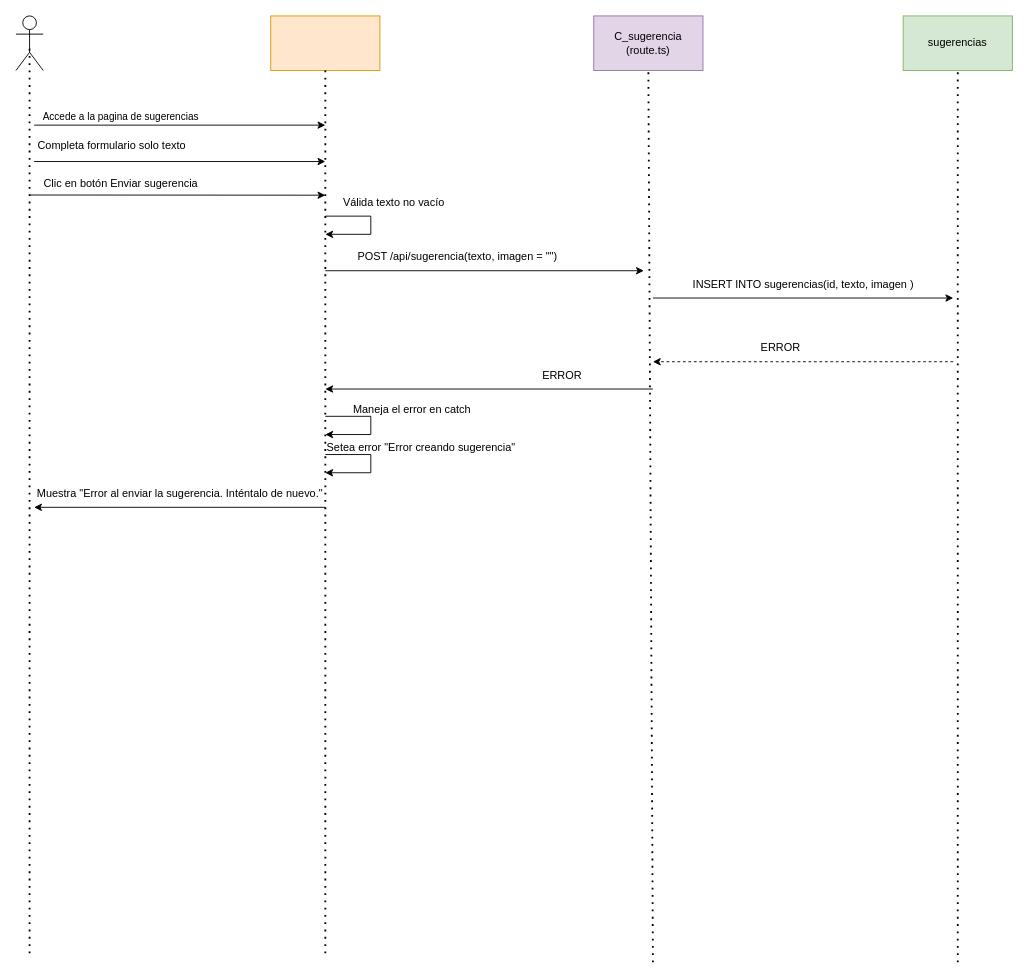
This 1028x980 diagram has some shape labels left out. The centre of each missing label's shape, as x and y in pixels:
"Actor" goes at point 29,43.
"V_sugerencias" goes at point 325,43.
